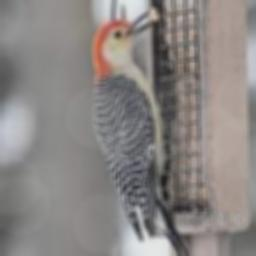Woodpecker: (93, 8, 191, 256)
